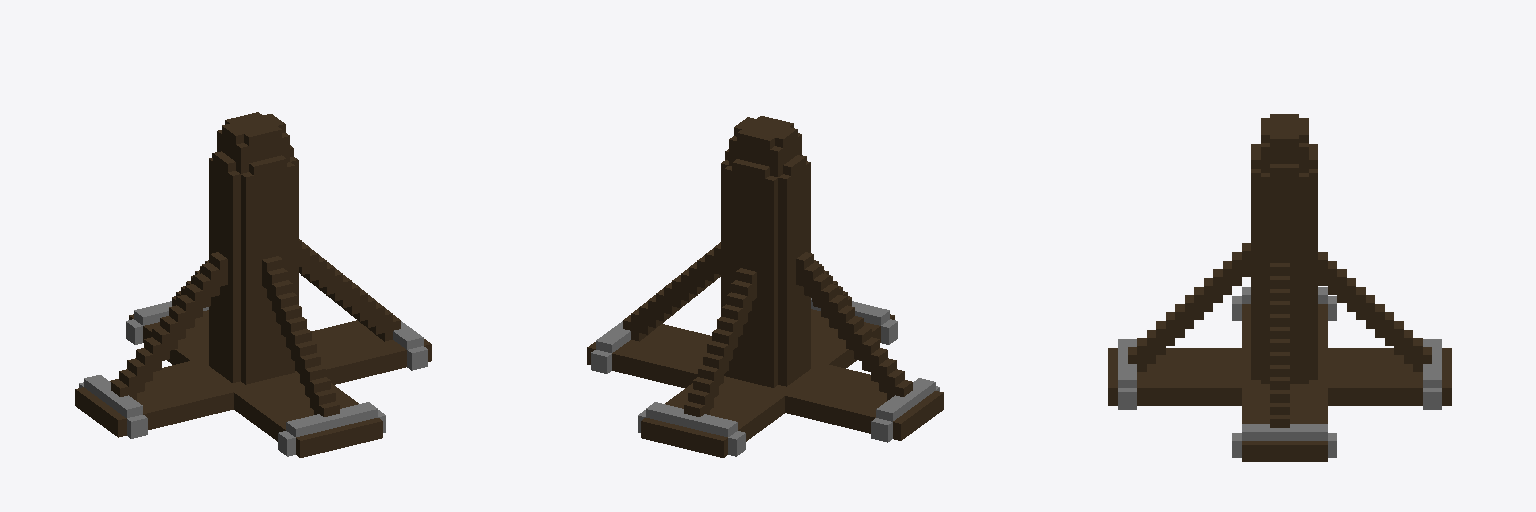
3 views of the same model, side by side, from view 1: azimuth 30°, elevation 25°; view 2: azimuth 150°, elevation 25°; view 3: azimuth 270°, elevation 25° (orthographic).
Visible parts, largest first — view 1: object 1; view 2: object 1; view 3: object 1.
Part boxes in pixels (x1,y1,x2,y2): object 1: (75, 112, 431, 457); object 1: (587, 116, 943, 457); object 1: (1108, 114, 1451, 461).
Size of the model in its own units: 3.8 by 3 by 3.6.
Materials: 1 (1 with a texture image).